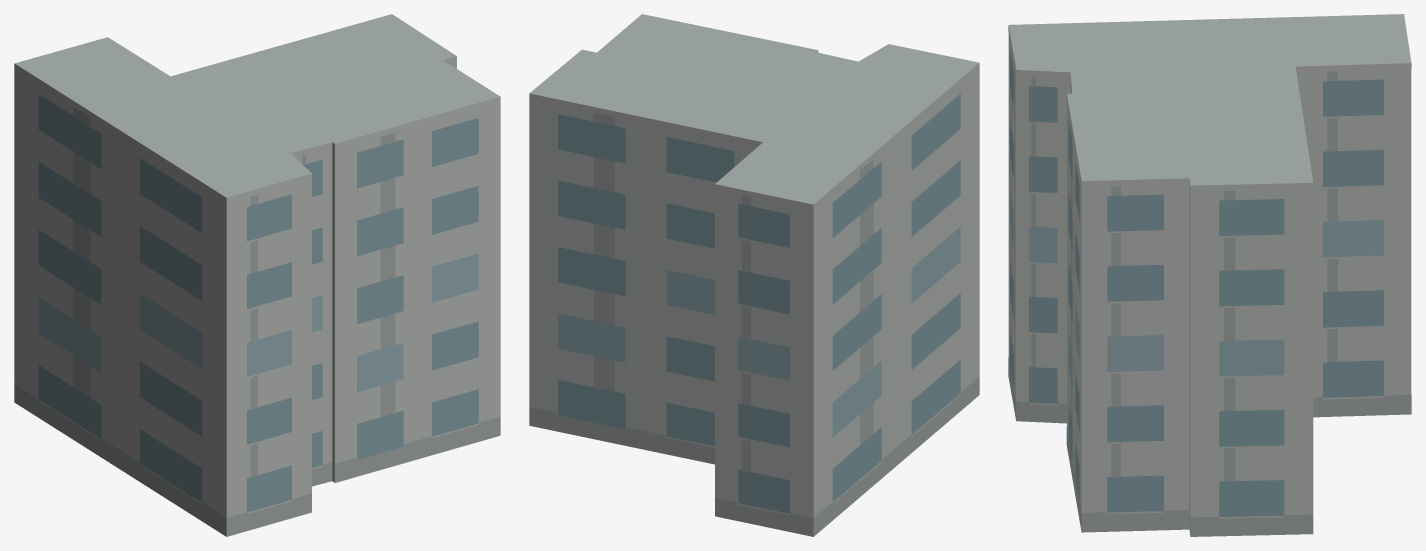
The model's file is survey-upis-32585668.glb.
3 renders of one model, left to right at view 1: azimuth 30°, elevation 25°; view 2: azimuth 150°, elevation 25°; view 3: azimuth 270°, elevation 25°, orthographic. The views are drawn at different scales.
Parts seen in each view (by area): view 1: survey-upis-32585668.tmp; view 2: survey-upis-32585668.tmp; view 3: survey-upis-32585668.tmp.
Boxes of the visible parts, box(x1,y1,x2,y2) form: survey-upis-32585668.tmp: box(14, 14, 500, 536); survey-upis-32585668.tmp: box(529, 14, 979, 536); survey-upis-32585668.tmp: box(1008, 14, 1411, 536).
Size of the model in its own units: 14.78 by 14.1 by 14.67.
